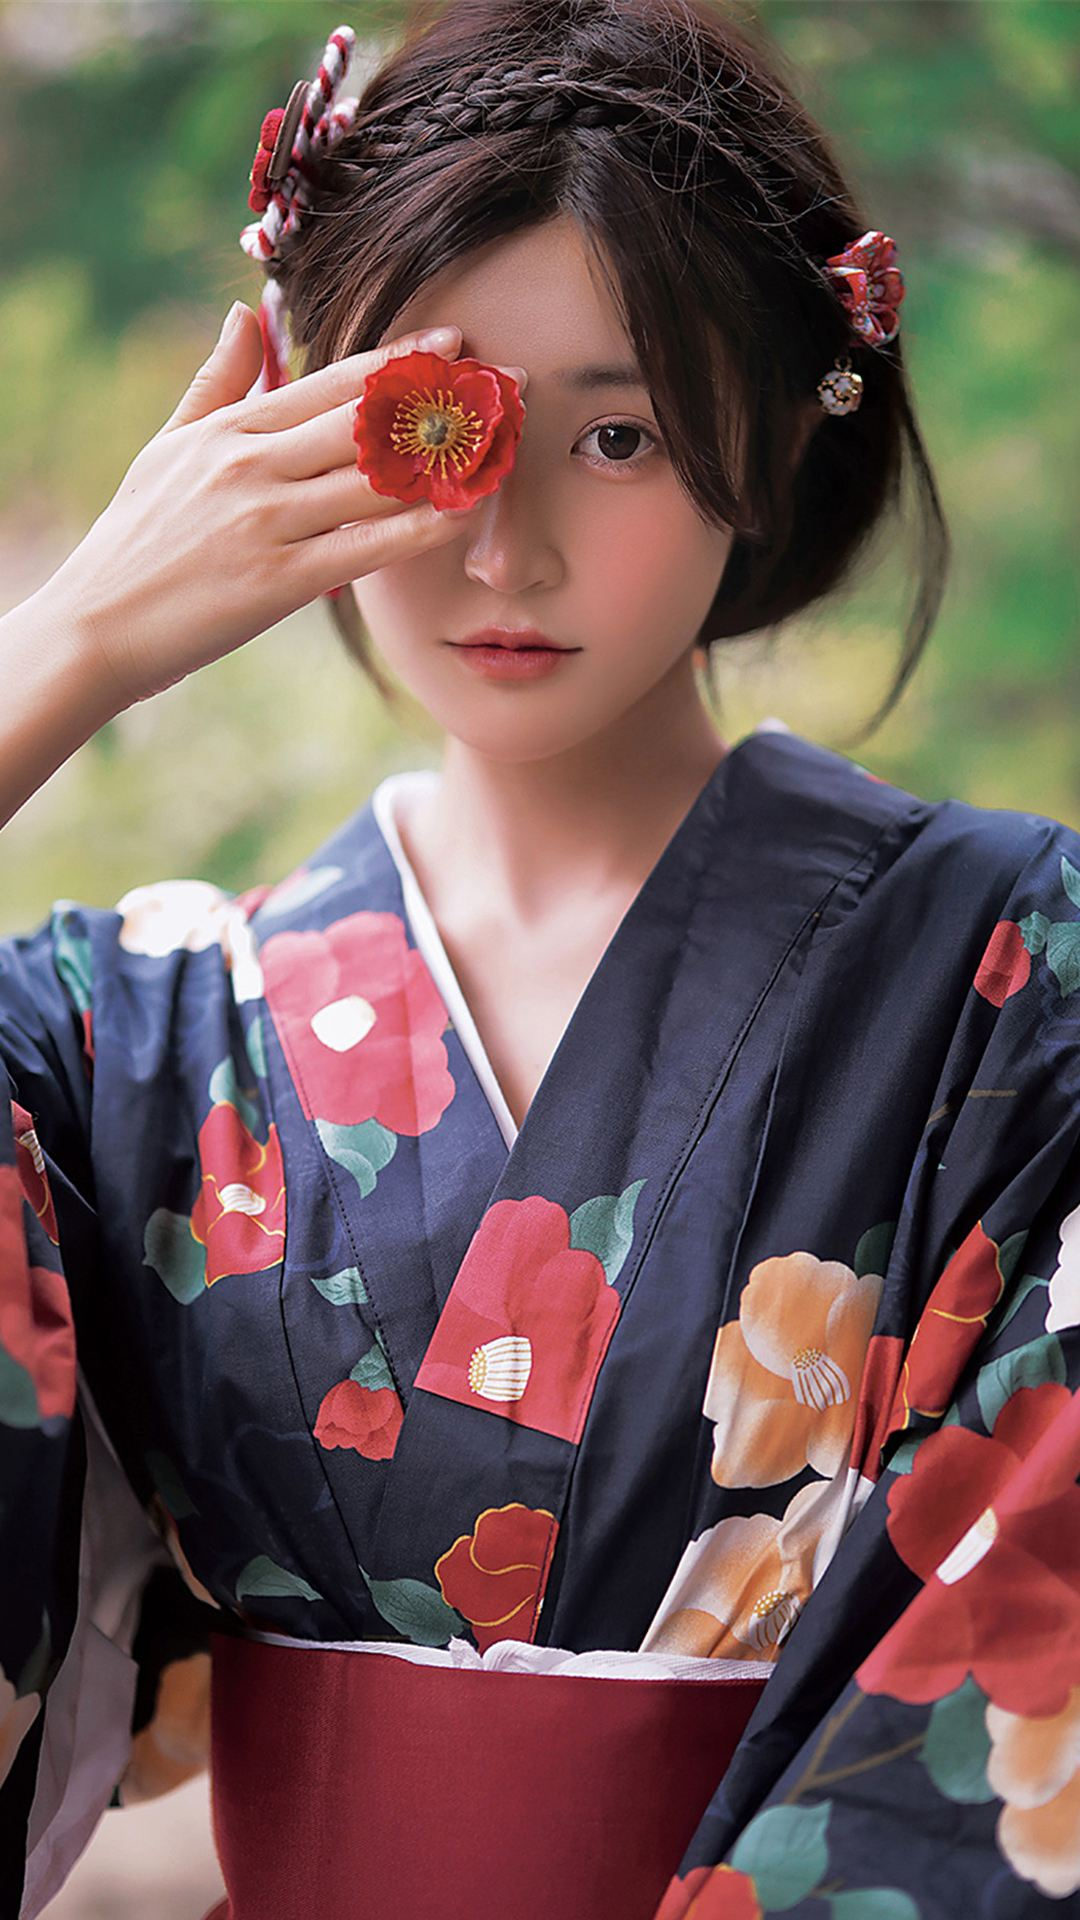person: (79, 57, 936, 1798)
